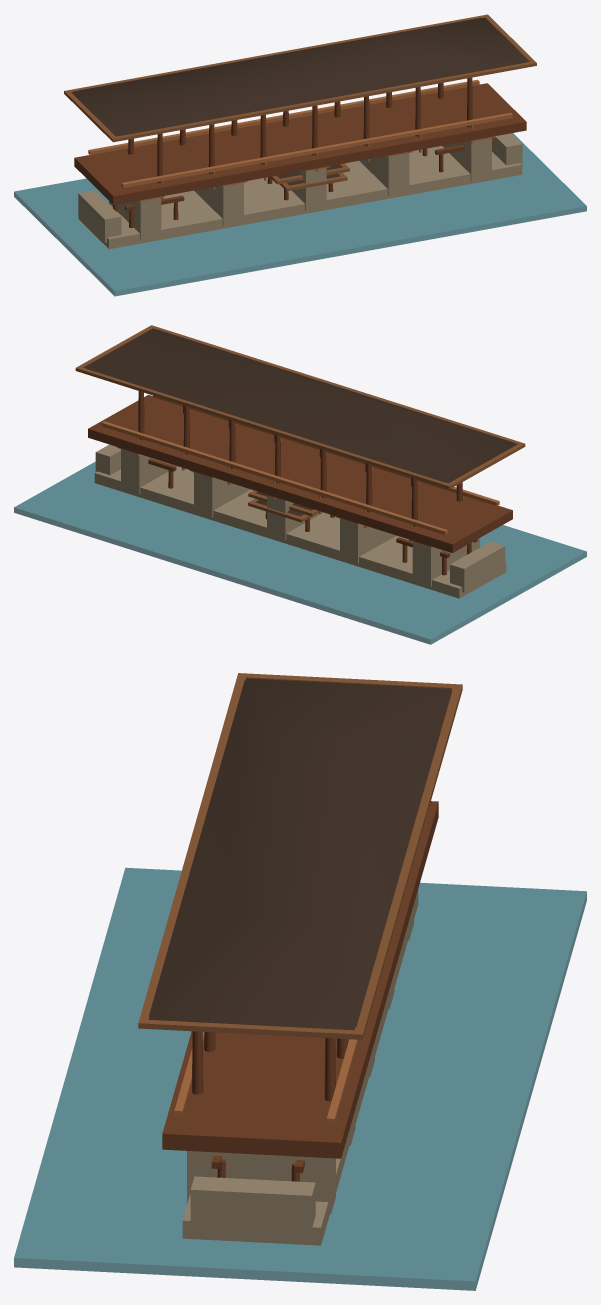
The picture shows the model from 3 angles, top to bottom: view 1: azimuth 30°, elevation 25°; view 2: azimuth 150°, elevation 25°; view 3: azimuth 270°, elevation 25°; orthographic projection. The views are drawn at different scales.
Visible parts, largest first — view 1: 浔江水面, Main_Wind_Rain_Roof, Covered_Walkway_Floor, Bridge_Stone_Deck, Stone_Pier (×5), Back_Railing, Main_Wind_Rain_Roof_back_eave, Entrance_Stone_Block (×2), Front_Railing, Main_Wind_Rain_Roof_front_eave, Main_Wind_Rain_Roof_left_eave; view 2: 浔江水面, Main_Wind_Rain_Roof, Covered_Walkway_Floor, Bridge_Stone_Deck, Stone_Pier (×5), Entrance_Stone_Block (×2), Main_Wind_Rain_Roof_front_eave, Front_Railing, Main_Wind_Rain_Roof_back_eave, Back_Railing, Main_Wind_Rain_Roof_left_eave; view 3: 浔江水面, Main_Wind_Rain_Roof, Covered_Walkway_Floor, Entrance_Stone_Block, Stone_Pier, Main_Wind_Rain_Roof_front_eave, Main_Wind_Rain_Roof_back_eave, Bridge_Stone_Deck, Main_Wind_Rain_Roof_right_eave, Main_Wind_Rain_Roof_left_eave, Front_Railing.
Part boxes in pixels (left/top/right/bottom): 浔江水面: left=14, top=133, right=586, bottom=296; Main_Wind_Rain_Roof: left=71, top=18, right=529, bottom=136; Covered_Walkway_Floor: left=74, top=83, right=526, bottom=204; Bridge_Stone_Deck: left=78, top=146, right=522, bottom=249; Stone_Pier (×5): left=109, top=138, right=491, bottom=240; Back_Railing: left=121, top=112, right=512, bottom=187; Main_Wind_Rain_Roof_back_eave: left=111, top=61, right=536, bottom=142; Entrance_Stone_Block (×2): left=78, top=133, right=522, bottom=242; Front_Railing: left=88, top=79, right=479, bottom=155; Main_Wind_Rain_Roof_front_eave: left=64, top=14, right=489, bottom=92; Main_Wind_Rain_Roof_left_eave: left=64, top=91, right=117, bottom=141; 浔江水面: left=14, top=461, right=586, bottom=644; Main_Wind_Rain_Roof: left=83, top=328, right=517, bottom=483; Covered_Walkway_Floor: left=88, top=394, right=512, bottom=552; Bridge_Stone_Deck: left=94, top=466, right=506, bottom=598; Stone_Pier (×5): left=121, top=449, right=479, bottom=586; Entrance_Stone_Block (×2): left=95, top=444, right=505, bottom=592; Main_Wind_Rain_Roof_front_eave: left=76, top=366, right=452, bottom=489; Front_Railing: left=101, top=421, right=447, bottom=534; Main_Wind_Rain_Roof_back_eave: left=149, top=325, right=525, bottom=447; Back_Railing: left=153, top=395, right=499, bottom=505; Main_Wind_Rain_Roof_left_eave: left=446, top=442, right=524, bottom=488; 浔江水面: left=14, top=867, right=586, bottom=1290; Main_Wind_Rain_Roof: left=148, top=678, right=452, bottom=1030; Covered_Walkway_Floor: left=162, top=801, right=438, bottom=1158; Entrance_Stone_Block: left=190, top=1176, right=315, bottom=1237; Stone_Pier: left=187, top=1151, right=335, bottom=1213; Main_Wind_Rain_Roof_front_eave: left=353, top=684, right=462, bottom=1039; Main_Wind_Rain_Roof_back_eave: left=138, top=673, right=247, bottom=1028; Bridge_Stone_Deck: left=182, top=889, right=418, bottom=1245; Main_Wind_Rain_Roof_right_eave: left=138, top=1020, right=363, bottom=1039; Main_Wind_Rain_Roof_left_eave: left=245, top=673, right=462, bottom=692; Front_Railing: left=326, top=1039, right=358, bottom=1125.
Size of the model in its own units: 16.84 by 4.81 by 9.86.
